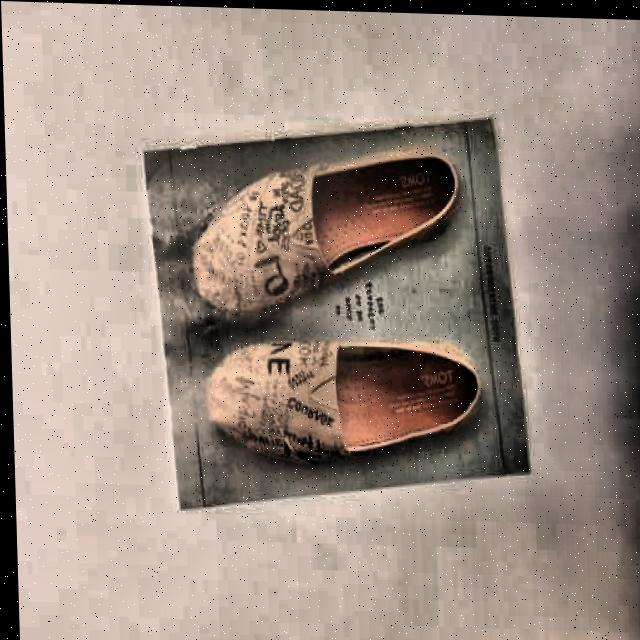paper: (141, 103, 533, 530)
